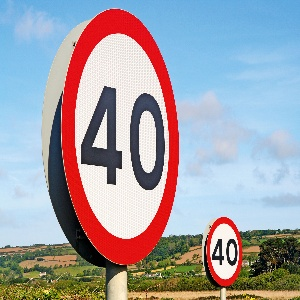40 speed: (62, 9, 179, 265), (206, 217, 242, 287)
